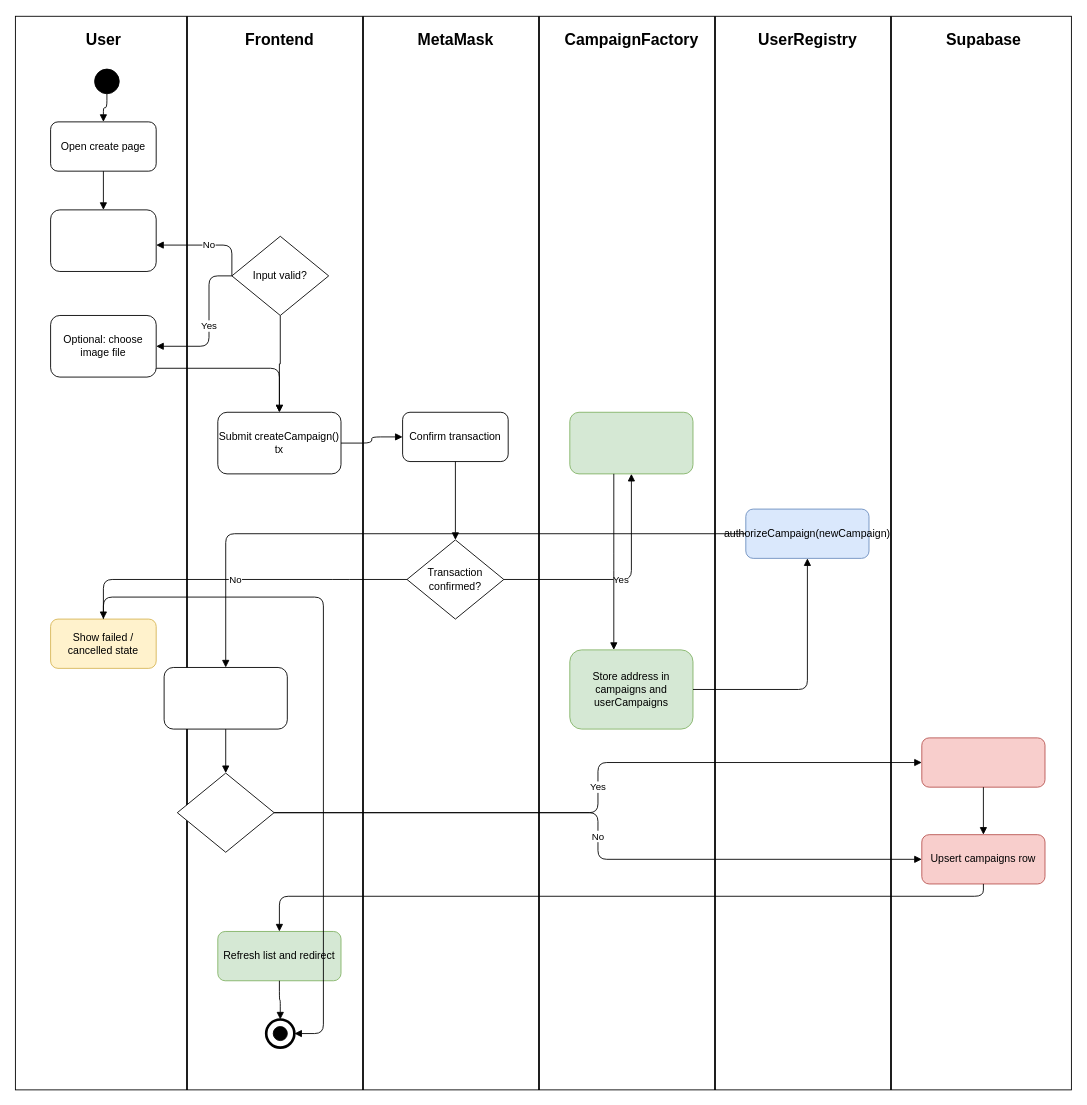
Image size: 1087x1105. Some labels were removed from this diagram. Each missing label, with the centre of its shape:
"Decode CampaignCreated event and new address" belongs at point (225, 698).
"Enter title, description, target, duration" belongs at point (103, 240).
"Image selected?" belongs at point (225, 812).
"Upload campaign image" belongs at point (983, 762).
"Validate inputs and deploy Campaign" belongs at point (631, 442).
